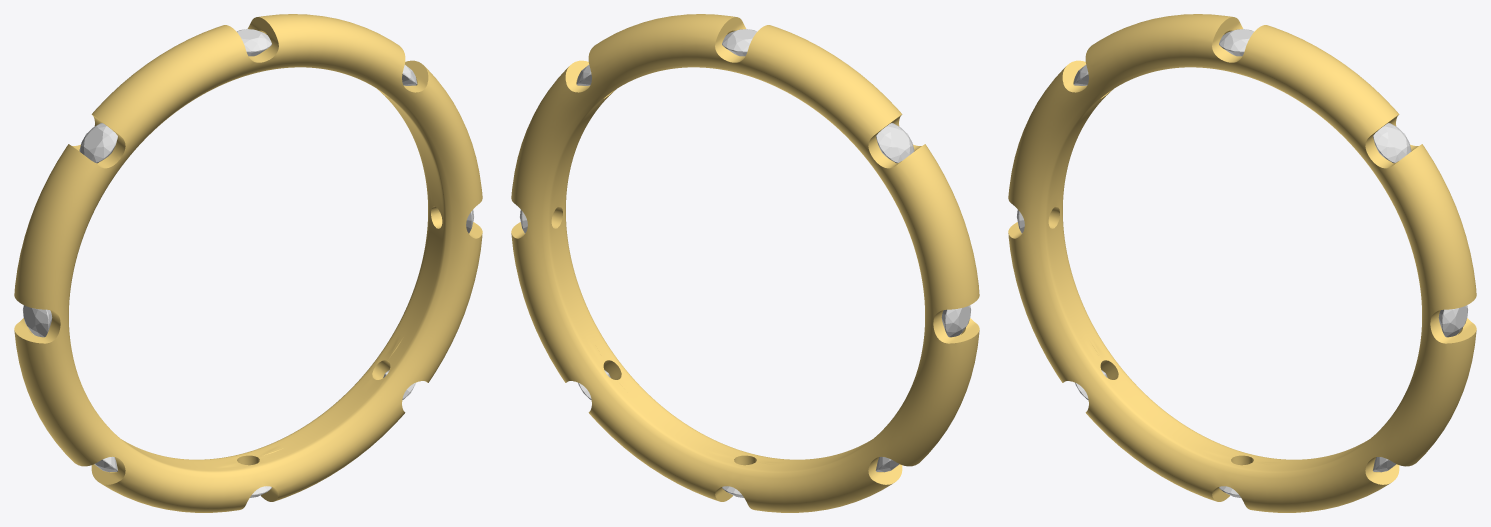
File: LaurynYGeternity.glb
3 views of the same model, side by side, from view 1: azimuth 30°, elevation 25°; view 2: azimuth 150°, elevation 25°; view 3: azimuth 330°, elevation 25° (orthographic).
Parts seen in each view (by area): view 1: Lauryn eternity YG for 3d model, Lauryn eternity dia for 3d model.006, Lauryn eternity dia for 3d model.005, Lauryn eternity dia for 3d model.007; view 2: Lauryn eternity YG for 3d model, Lauryn eternity dia for 3d model.006, Lauryn eternity dia for 3d model.005, Lauryn eternity dia for 3d model.007; view 3: Lauryn eternity YG for 3d model, Lauryn eternity dia for 3d model, Lauryn eternity dia for 3d model.001, Lauryn eternity dia for 3d model.007.
Boxes of the visible parts, box(x1,y1,x2,y2) form: Lauryn eternity YG for 3d model: box(14, 14, 482, 512); Lauryn eternity dia for 3d model.006: box(79, 123, 117, 163); Lauryn eternity dia for 3d model.005: box(23, 305, 52, 337); Lauryn eternity dia for 3d model.007: box(237, 29, 271, 56); Lauryn eternity YG for 3d model: box(511, 14, 979, 512); Lauryn eternity dia for 3d model.006: box(876, 123, 914, 163); Lauryn eternity dia for 3d model.005: box(941, 305, 970, 337); Lauryn eternity dia for 3d model.007: box(722, 29, 756, 56); Lauryn eternity YG for 3d model: box(1008, 14, 1476, 512); Lauryn eternity dia for 3d model: box(1373, 123, 1411, 163); Lauryn eternity dia for 3d model.001: box(1438, 305, 1467, 337); Lauryn eternity dia for 3d model.007: box(1219, 29, 1253, 56).
Size of the model in its own units: 19.86 by 19.86 by 2.3.
